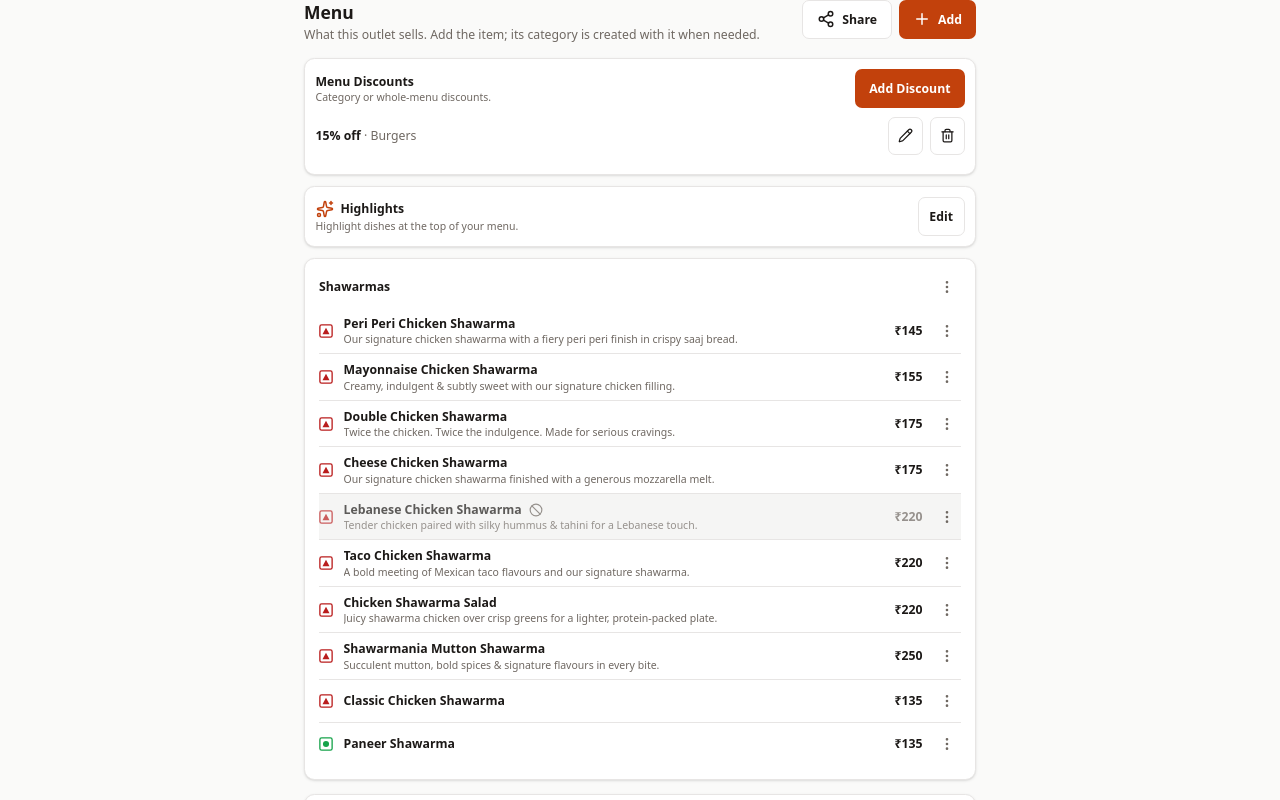
Test: MenuSurface — the manager › keeps a refused save visible inside the editor
The width and height of the screenshot is (1280, 800).
Click the button with aria-label "Edit highlights": (941, 217) [918, 197, 964, 236]
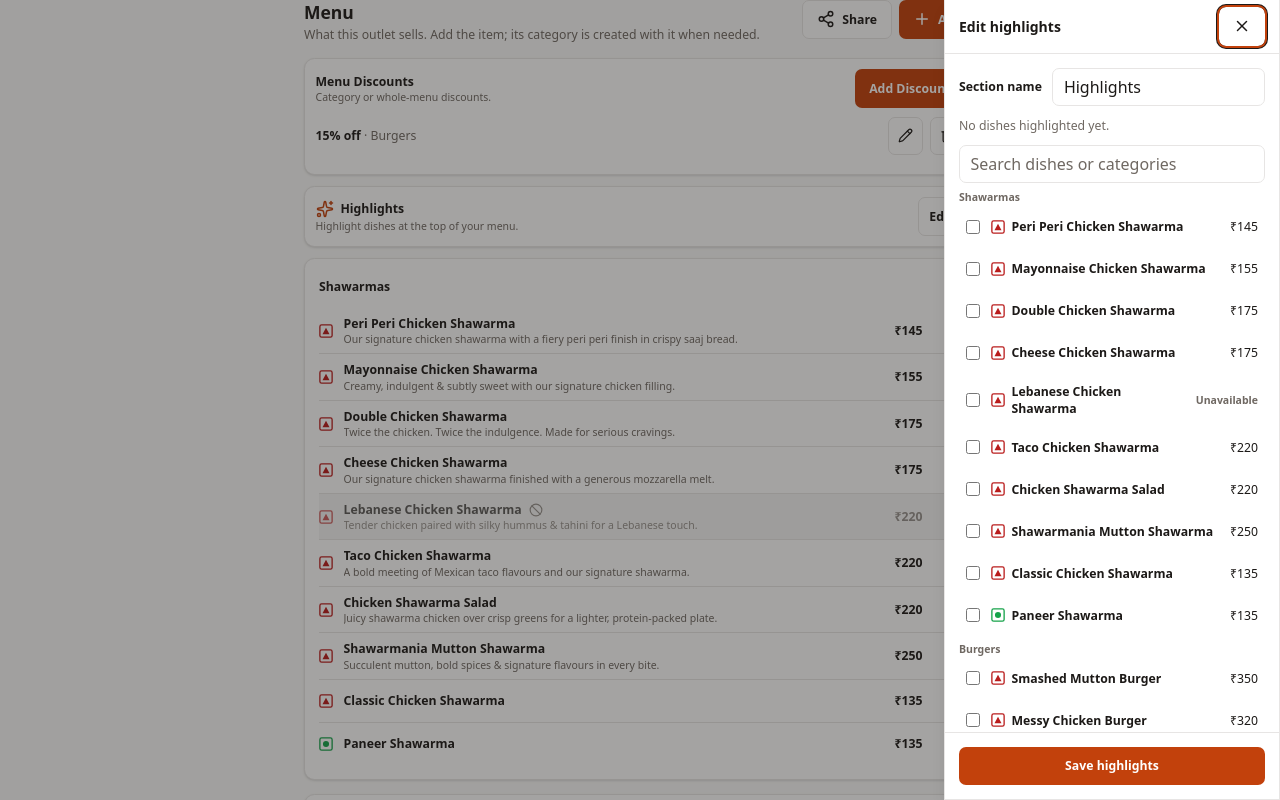
Clear the field labelled "Section name": (1159, 87) [1052, 68, 1265, 106]
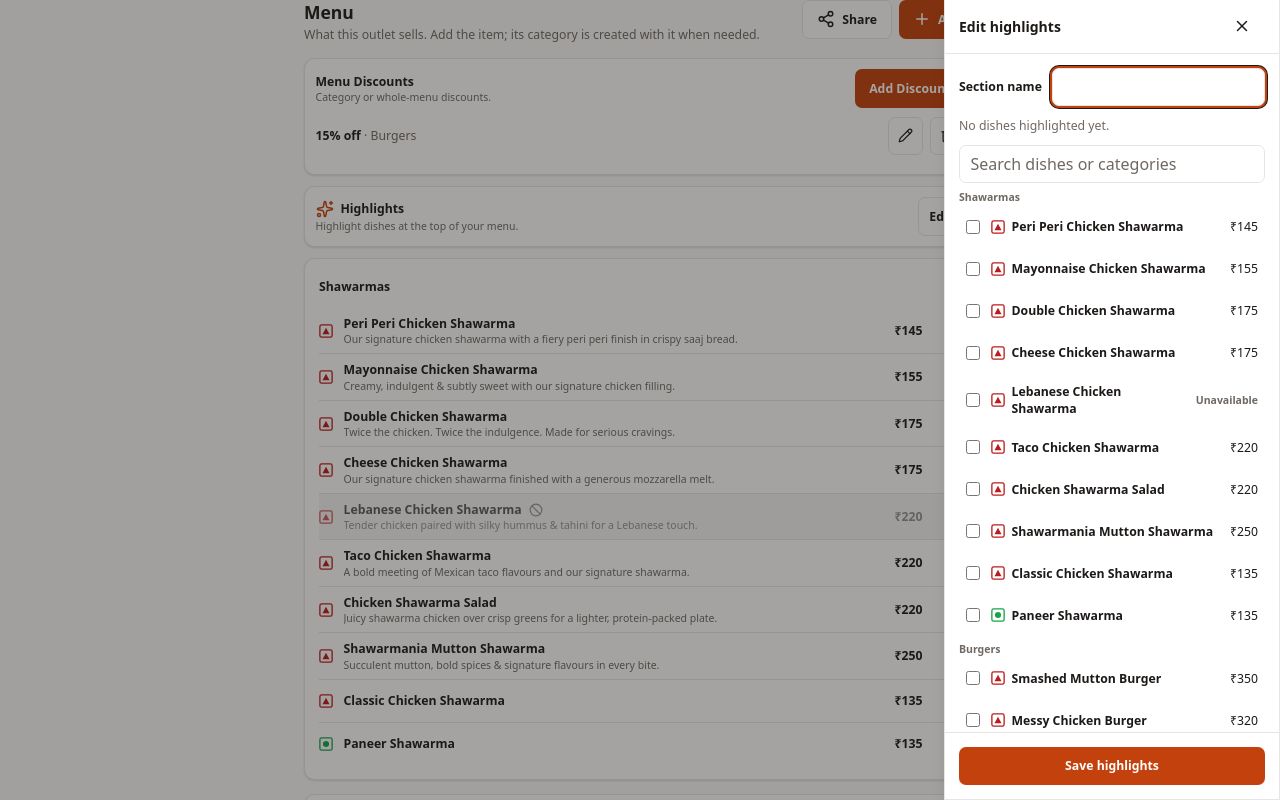
Click the button "Save highlights": (1112, 766) [959, 746, 1265, 785]
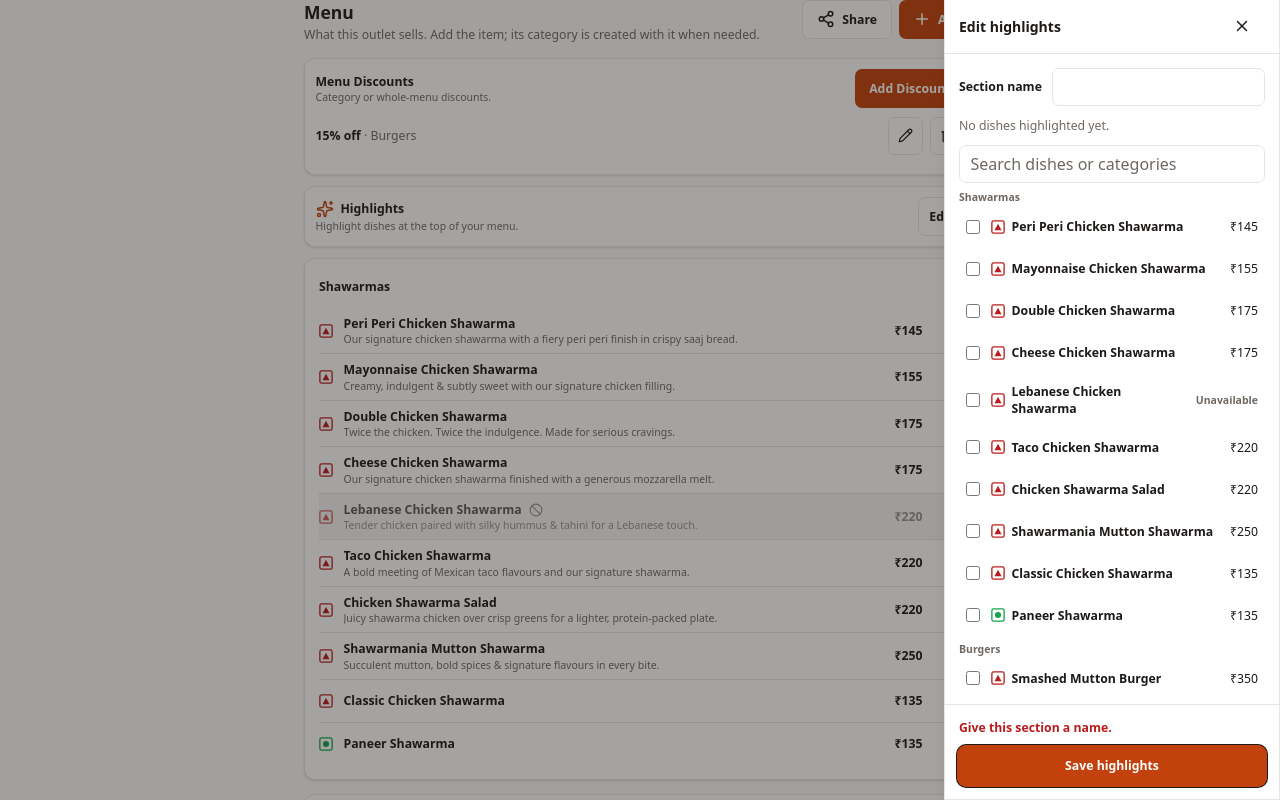
Expected: the dialog "Edit highlights" is shown, [944, 0, 1279, 799]
Expected: the message with test id "form-sheet-error" reads "Give this section a name.", [959, 718, 1112, 736]
